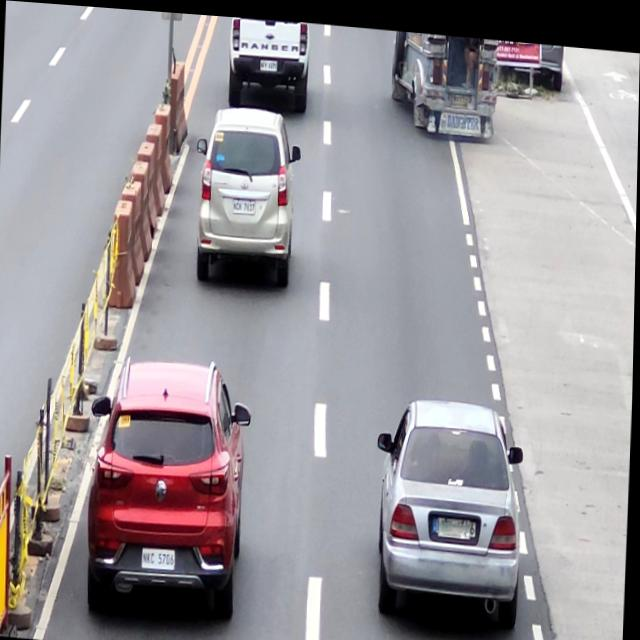Car: (86, 351, 253, 624), (371, 386, 527, 628), (191, 99, 302, 288), (225, 13, 310, 111)
Jeep: (386, 24, 500, 131)
License-Plate: (442, 510, 474, 534), (144, 547, 177, 568), (232, 193, 256, 211), (259, 55, 279, 67)
